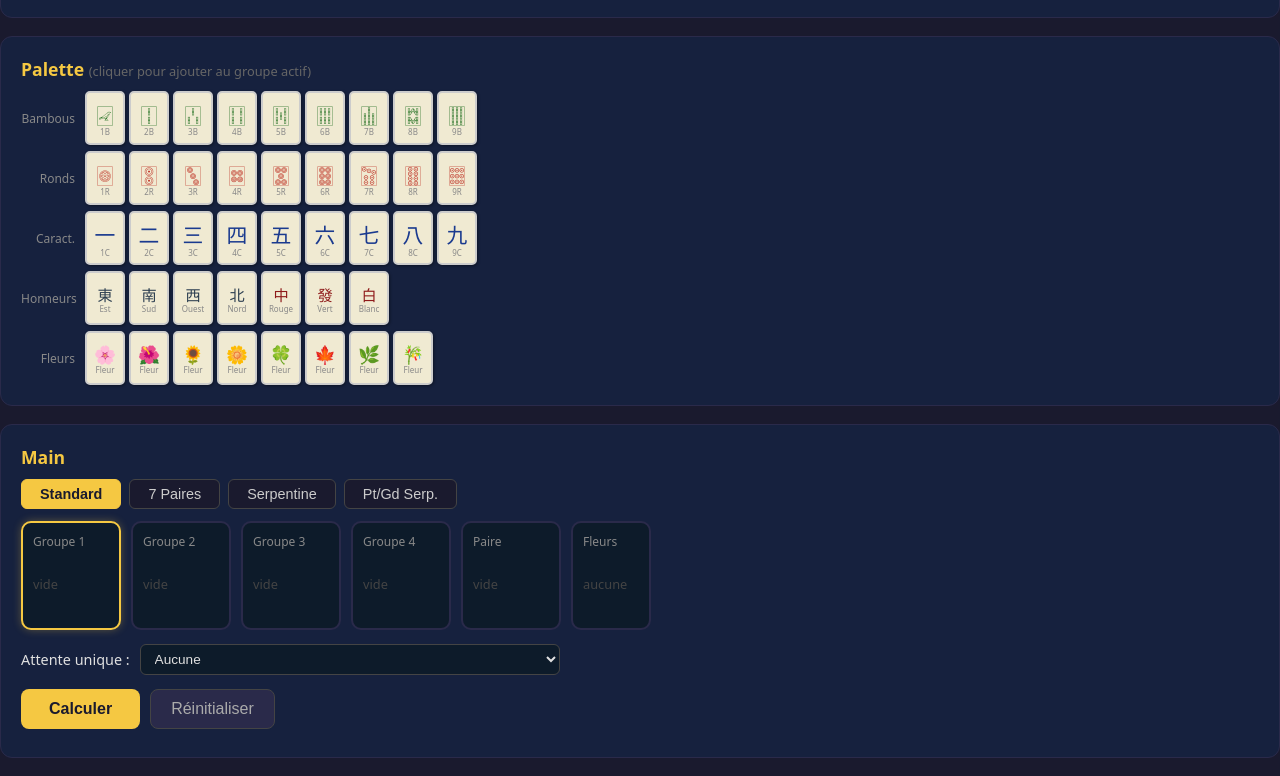
Test case: CalculatorTab — erreurs de validation › Calculer avec main vide affiche un message d'erreur
The width and height of the screenshot is (1280, 776).
(page scrolled)
What coordinates should you click on to do the following:
click the button "Calculer"
I would click on:
 (81, 709)
Its box is [21, 689, 140, 729].
(page scrolled)
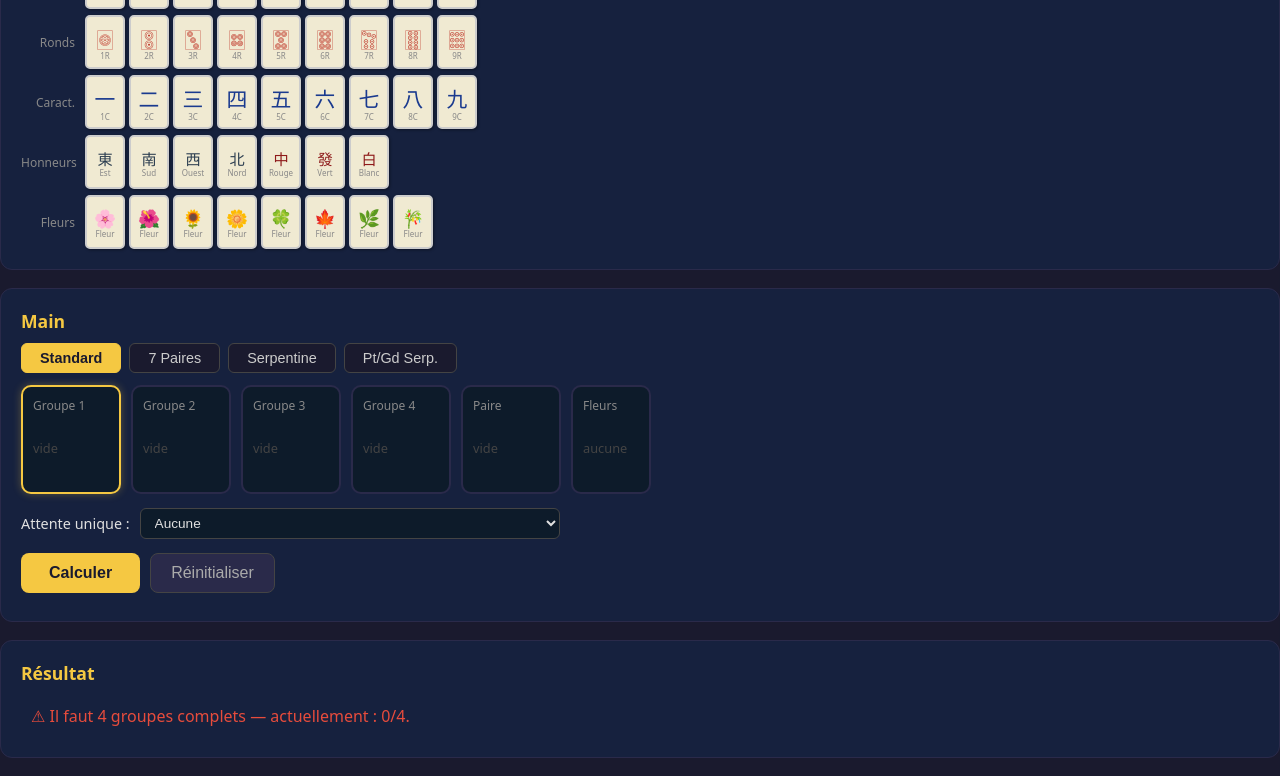
Expected: the text "⚠ Il faut 4 groupes complets — actuellement : 0/4." is shown, [31, 705, 410, 727]
